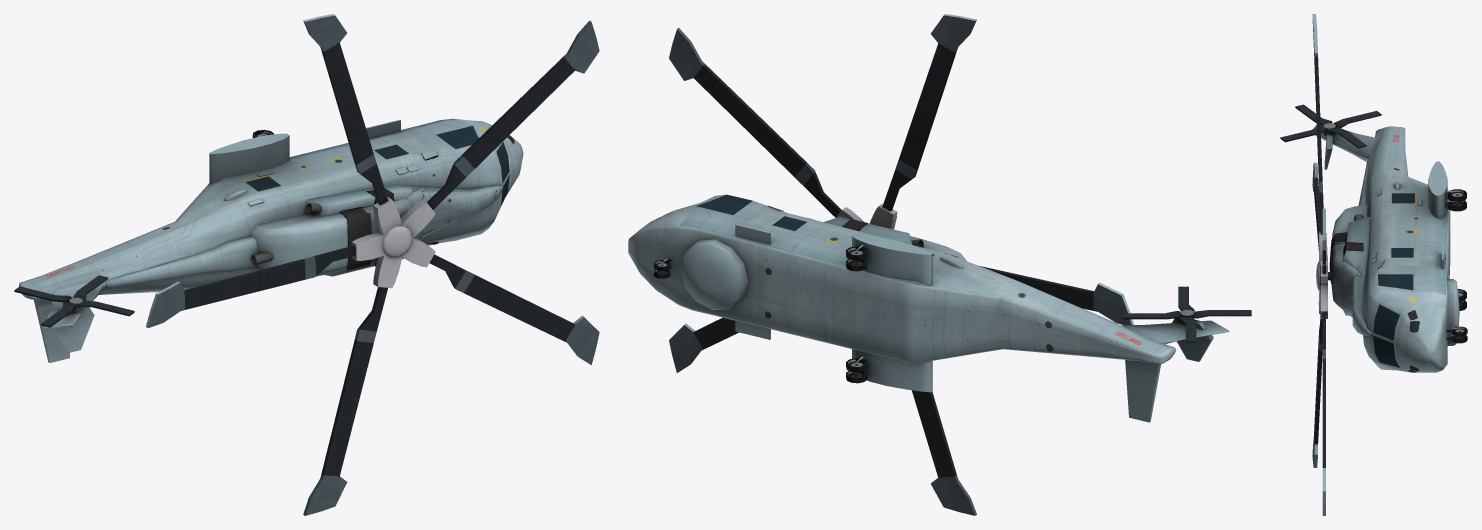
The model's file is helicopter_utility_gb.obj.
3 views of the same model, side by side, from view 1: azimuth 30°, elevation 25°; view 2: azimuth 150°, elevation 25°; view 3: azimuth 270°, elevation 25° (orthographic). The views are drawn at different scales.
Bounding box in the file's own units: 20 × 16.59 × 6.36.
Materials: 2 (2 with a texture image).
